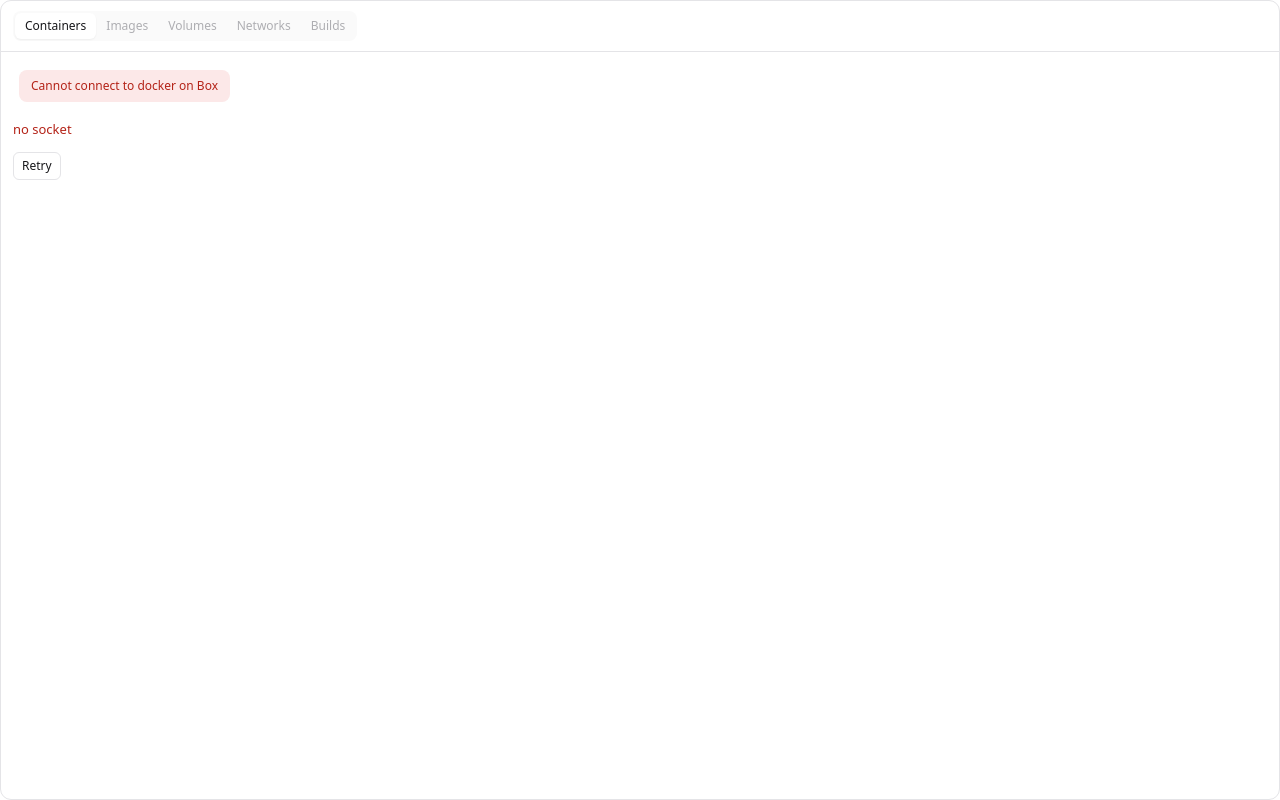
ContainersView › shows the connection error with Retry
This screenshot has width=1280, height=800.
Check: the text "Cannot connect to docker on Box" is shown, box [31,78,218,94]
Check: the text "no socket" is shown, box [13,120,72,140]
Click the button "Retry" at (37, 166), box [13,152,61,180]
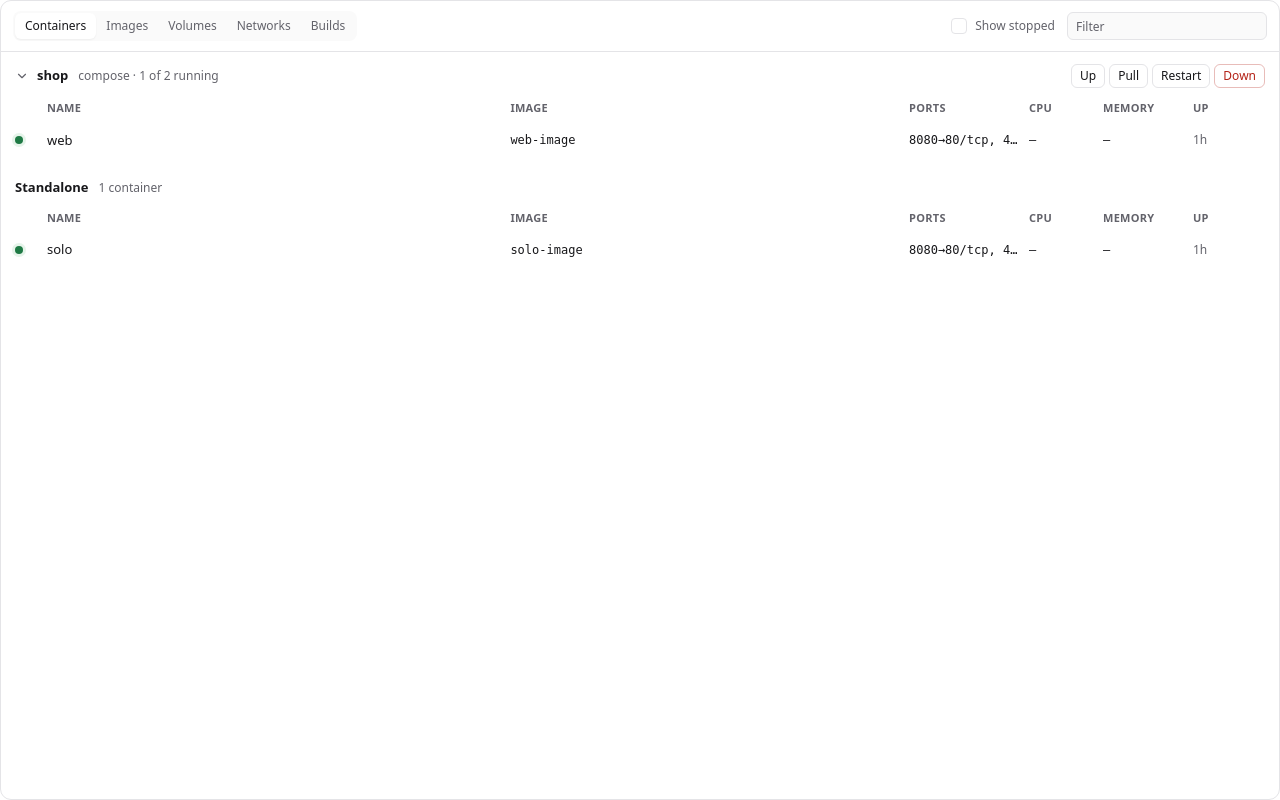
Check: the button "web" is shown, box [47,130,500,150]
